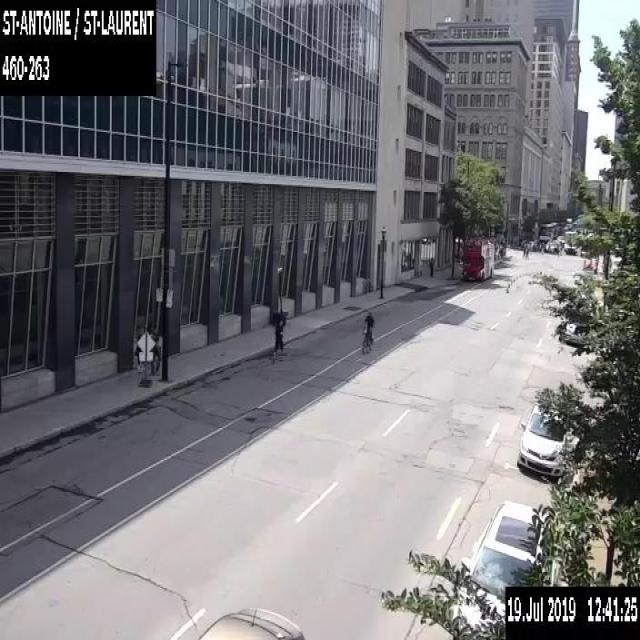bus: (461, 236, 494, 281), (539, 221, 558, 242)
construction: (136, 331, 155, 386), (582, 257, 597, 272)
cyclist: (360, 310, 374, 354)
pedestrian: (271, 316, 286, 362), (149, 325, 160, 375), (134, 329, 144, 375), (428, 255, 434, 276), (540, 240, 544, 254), (554, 245, 559, 256), (524, 247, 528, 260), (522, 247, 526, 260), (536, 240, 539, 251), (547, 243, 550, 254)
vehicle: (453, 496, 554, 630), (516, 401, 572, 484), (191, 604, 308, 639), (560, 314, 587, 346), (574, 268, 593, 291), (524, 238, 538, 250), (564, 242, 576, 254), (552, 239, 562, 250), (545, 241, 554, 252), (556, 234, 565, 244), (580, 247, 588, 256)
